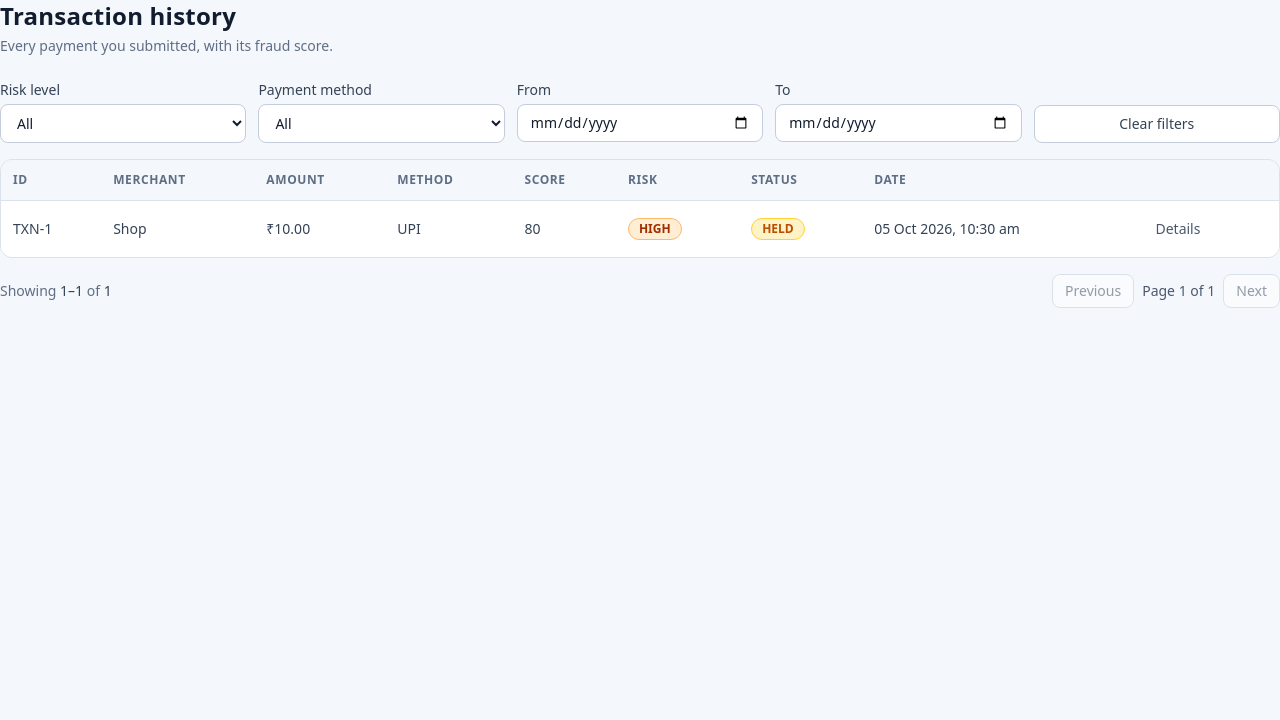
F-10: transaction detail shows an explicit unknown location › TransactionHistory modal
Click the button "Details": click(1178, 229) [1144,213,1212,245]
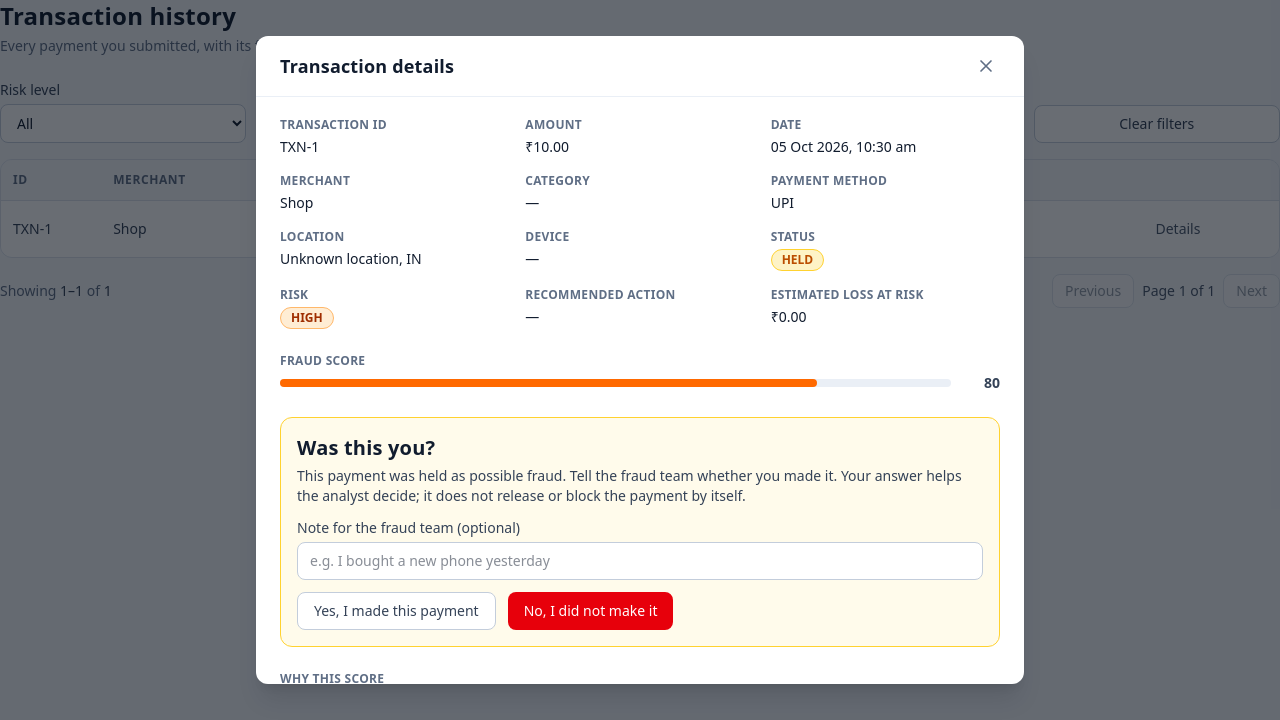
Expected: the text "Unknown location, IN" is shown, [280,249,422,268]
